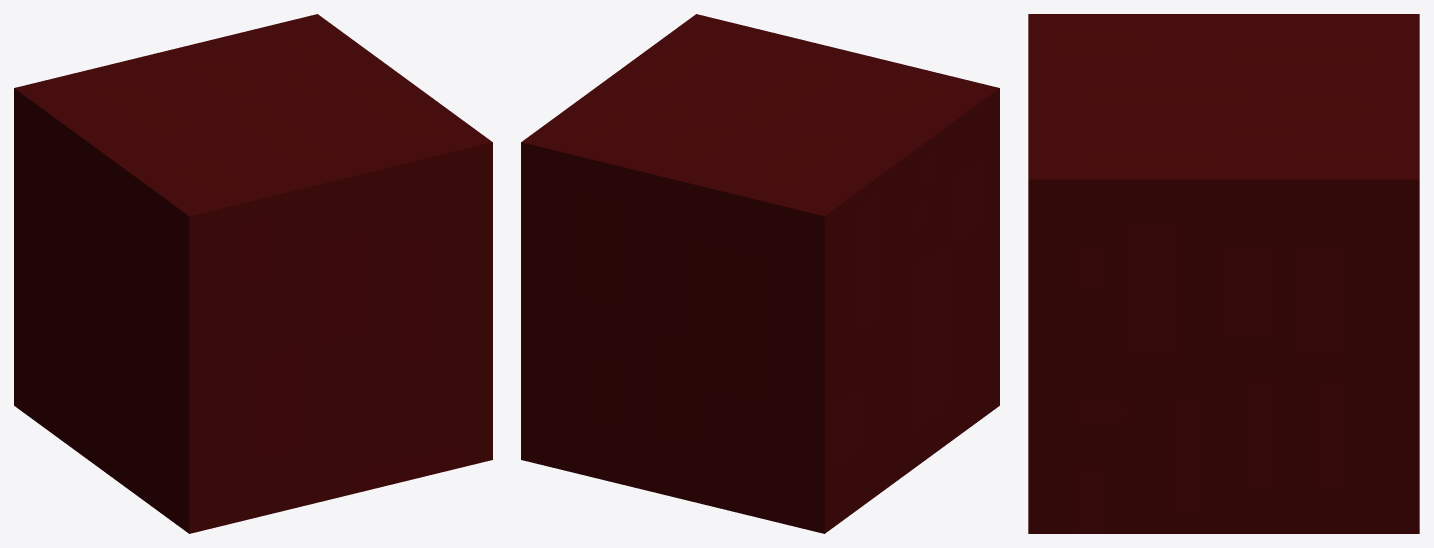
File: Ground.obj
3 renders of one model, left to right at view 1: azimuth 30°, elevation 25°; view 2: azimuth 150°, elevation 25°; view 3: azimuth 270°, elevation 25°, orthographic. The views are drawn at different scales.
Bounding box in the file's own units: 1.6 × 1.6 × 1.6.
Materials: 1 (1 with a texture image).
